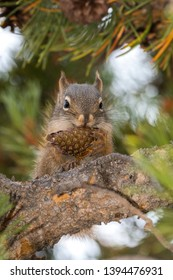Pc: (48, 128, 99, 157)
